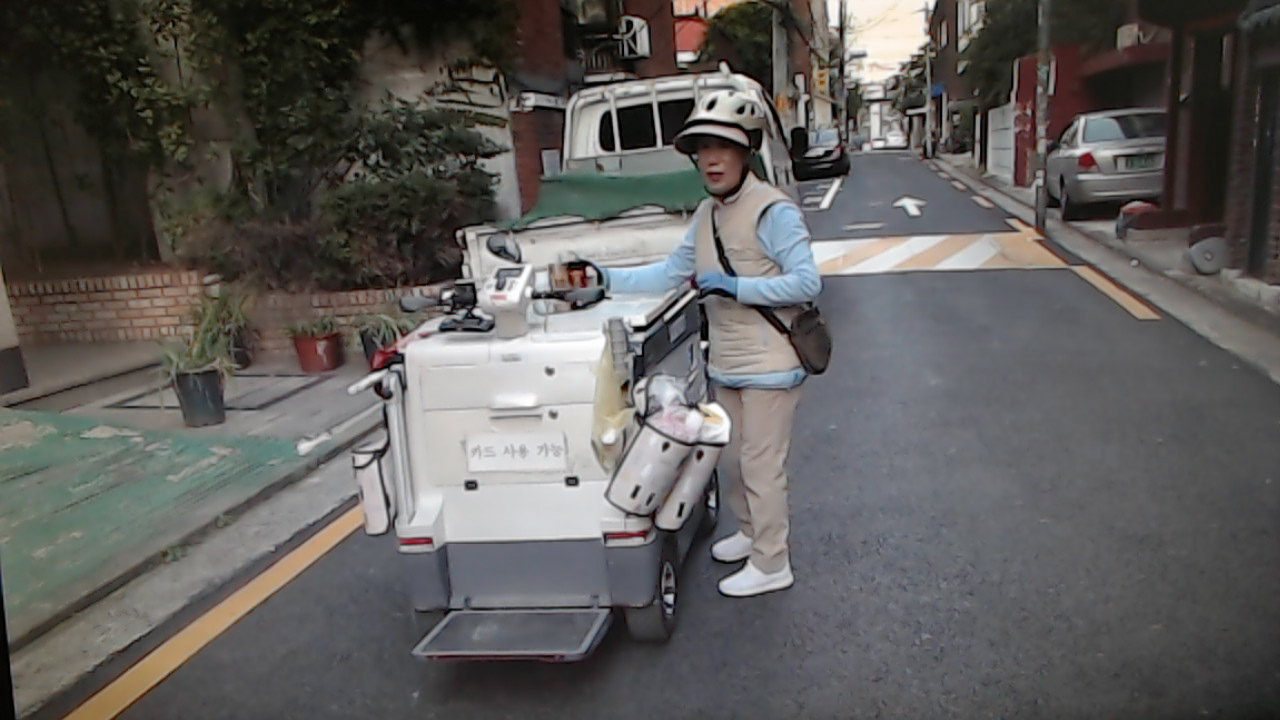Yakurut: (577, 88, 836, 609)
